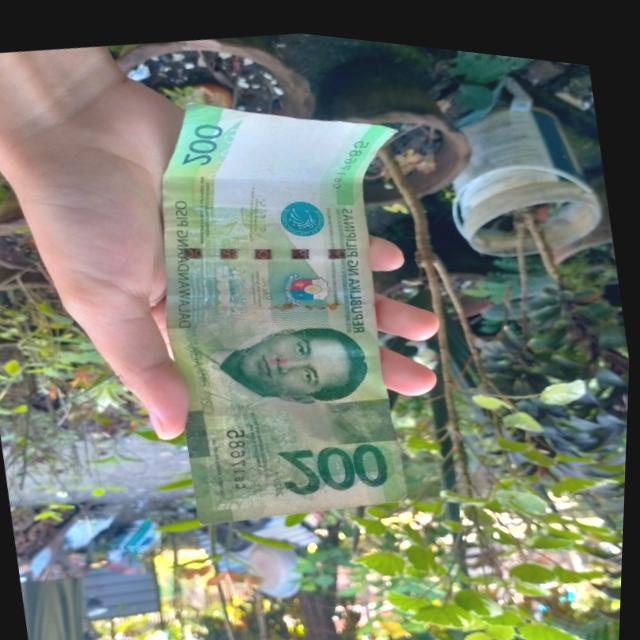concealed_value: (327, 381, 400, 440)
security_thread: (170, 205, 387, 283)
see_through_mark: (187, 103, 265, 184)
serial_number: (315, 119, 376, 190), (219, 408, 264, 493)
value: (277, 422, 394, 498)
